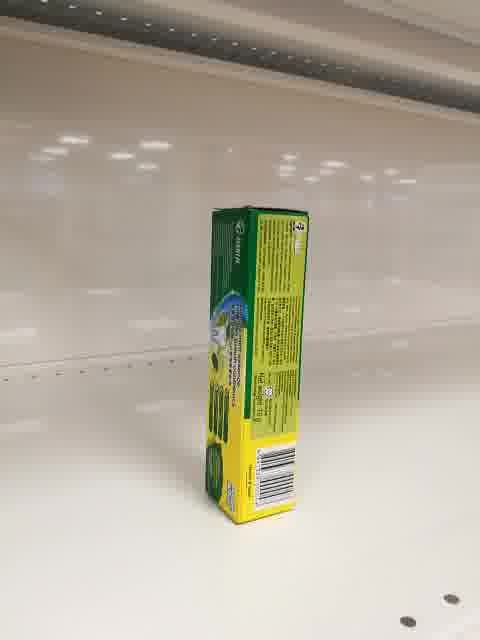toothpaste: (205, 205, 309, 526)
